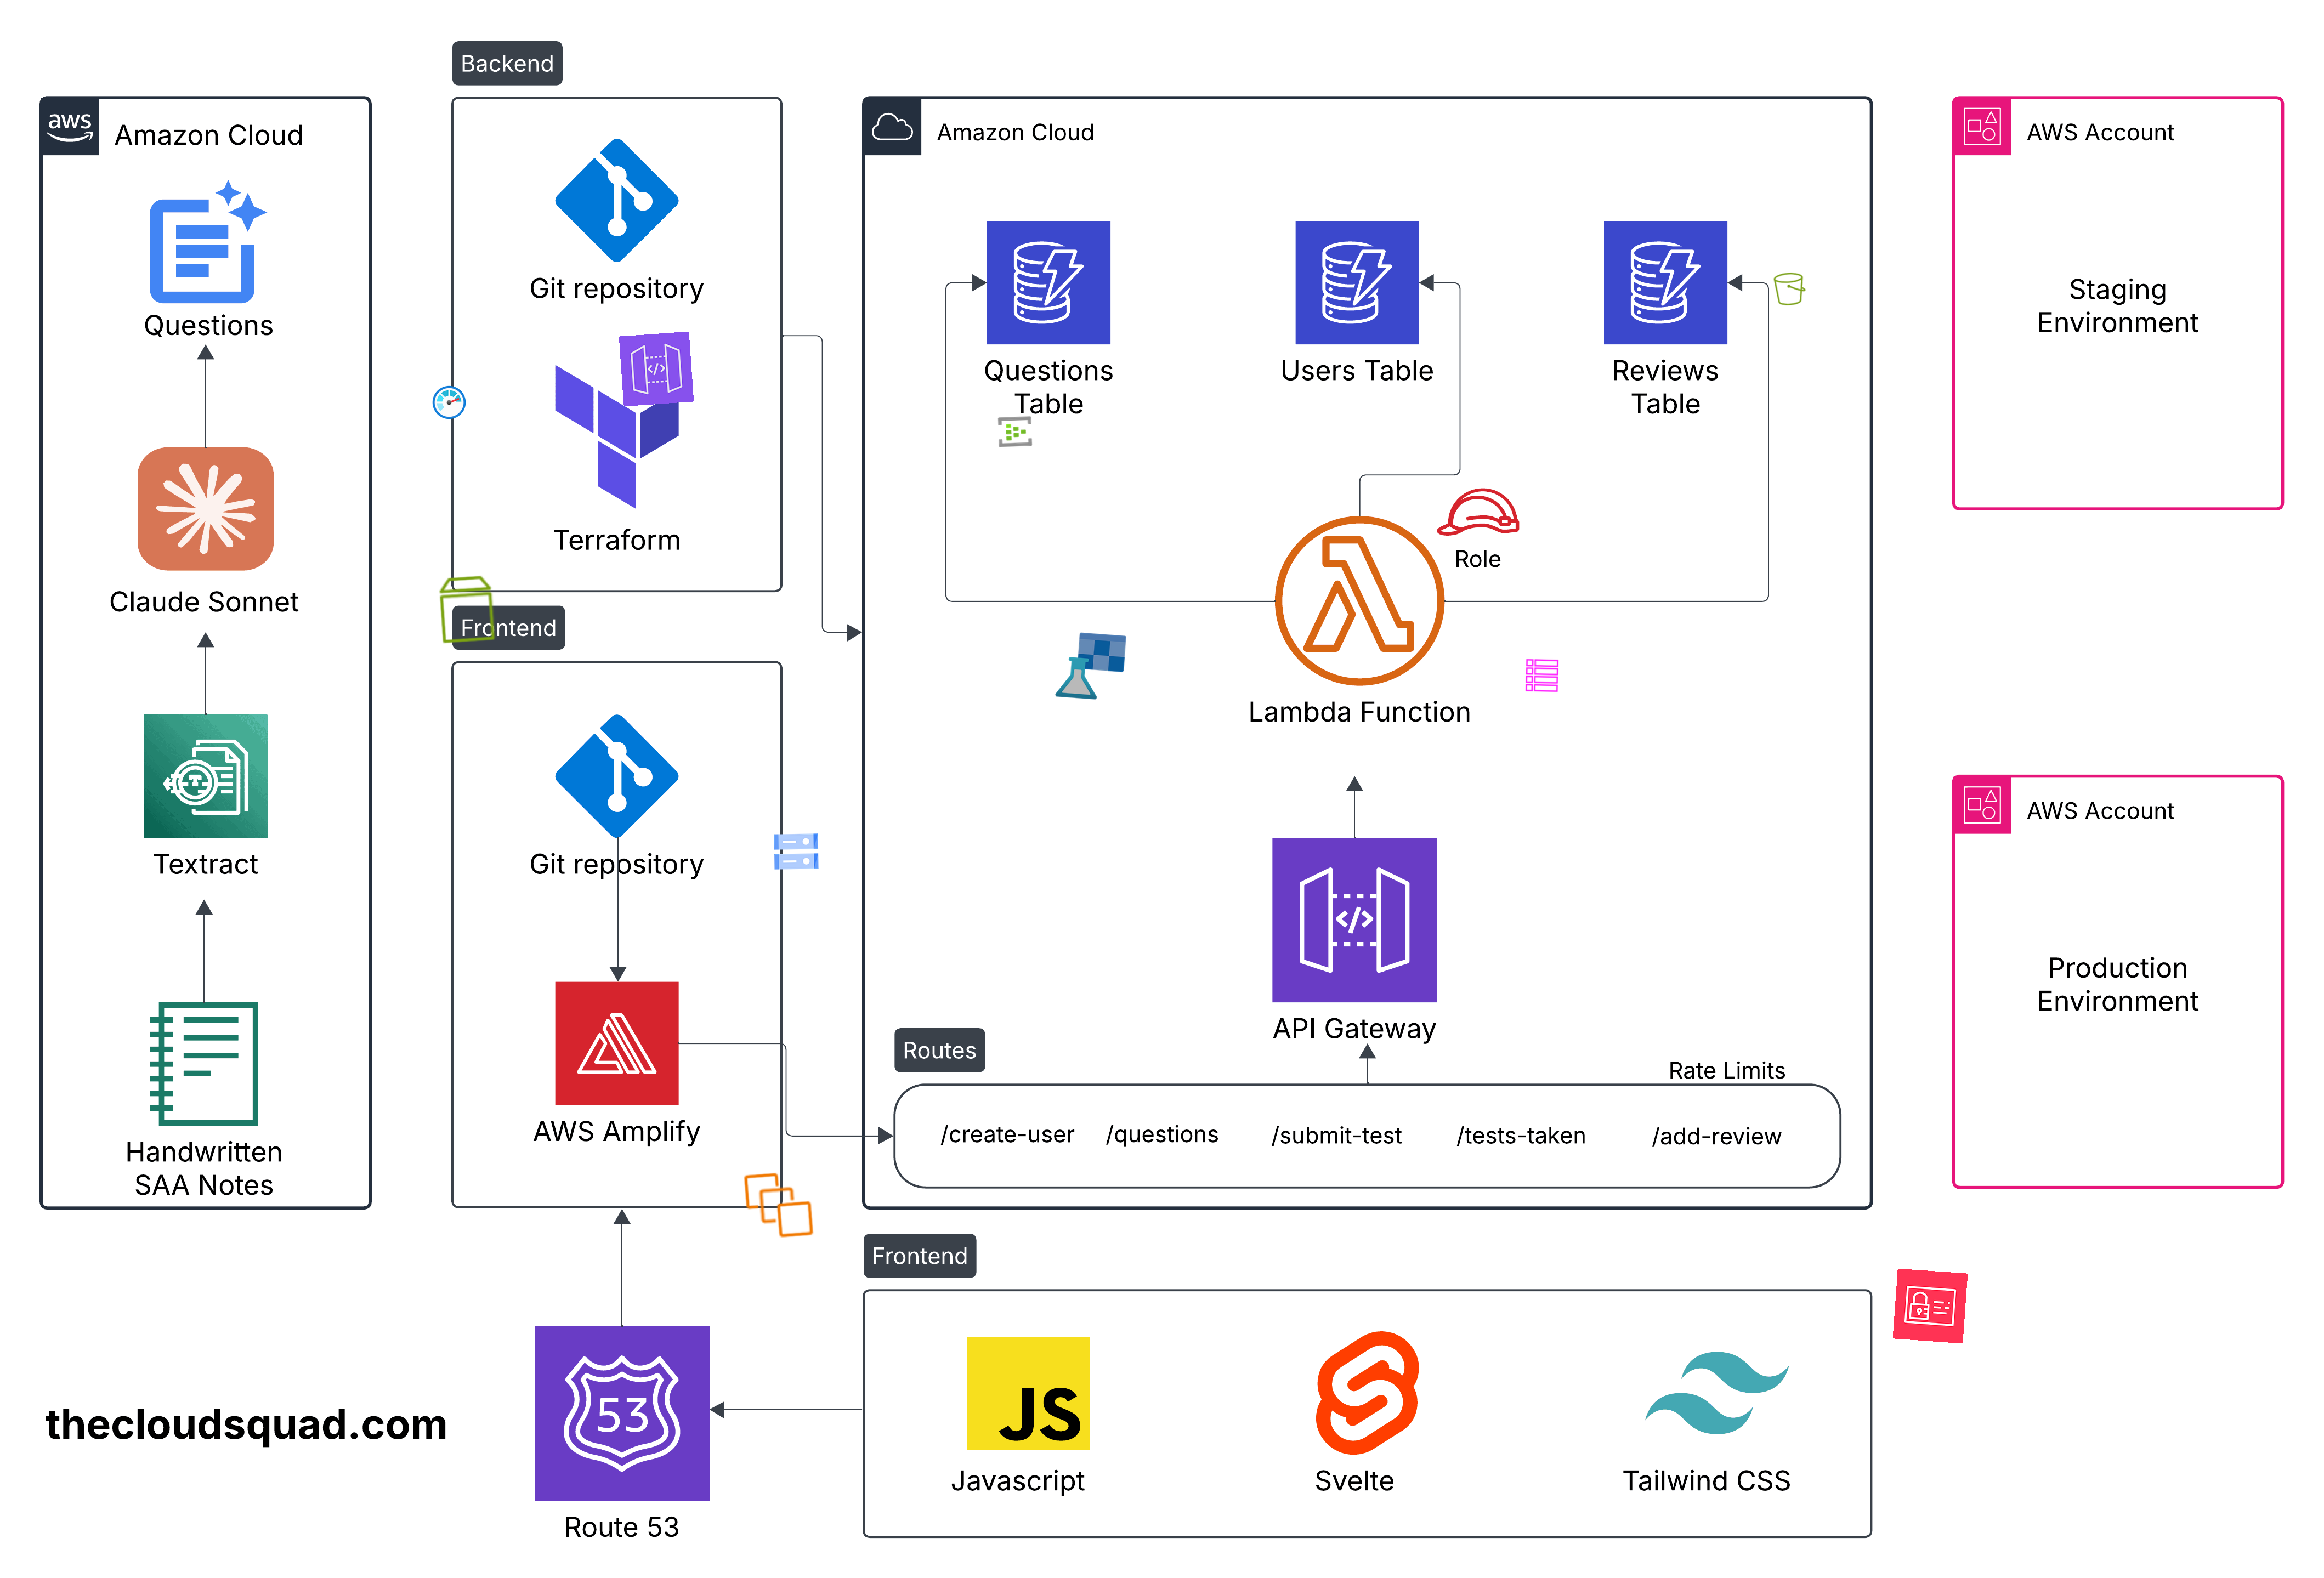aws_amazon_api_gateway: (618, 331, 694, 407)
aws_dynamodb_table: (1525, 657, 1560, 694)
aws_ec2_instances: (741, 1168, 817, 1243)
aws_elastic_block_store_volume: (430, 571, 505, 646)
aws_identity_and_access_management: (1893, 1268, 1968, 1344)
aws_simple_storage_service_bucket: (1771, 269, 1810, 308)
azure_event_hubs: (997, 412, 1033, 451)
azure_machine_learning_studio_workspaces: (1053, 629, 1129, 704)
azure_monitor: (431, 384, 467, 421)
gcp_cloud_storage: (769, 824, 824, 879)
